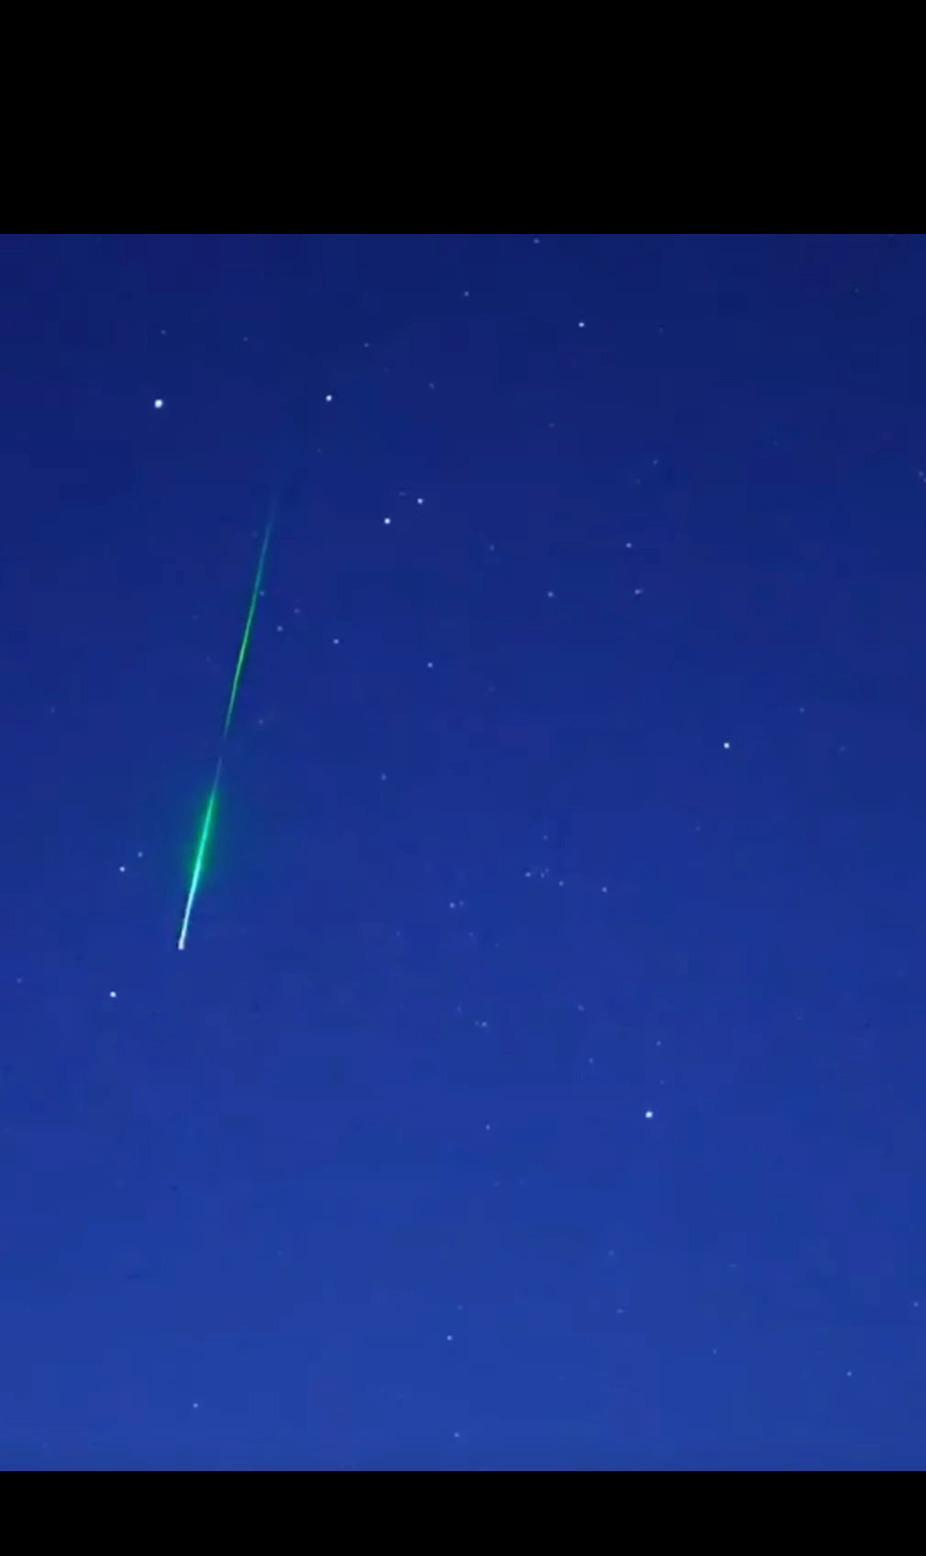meteorite: (152, 468, 294, 970)
